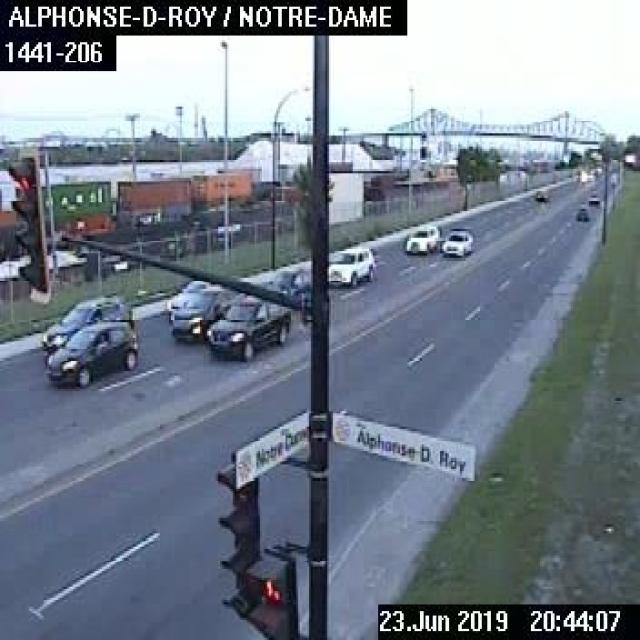vehicle: (38, 316, 137, 386), (40, 292, 134, 354), (209, 297, 289, 362), (164, 282, 241, 340), (326, 242, 374, 287), (258, 260, 307, 300), (402, 222, 438, 254), (438, 228, 472, 255), (573, 200, 587, 220), (586, 189, 601, 204), (535, 187, 549, 202)
